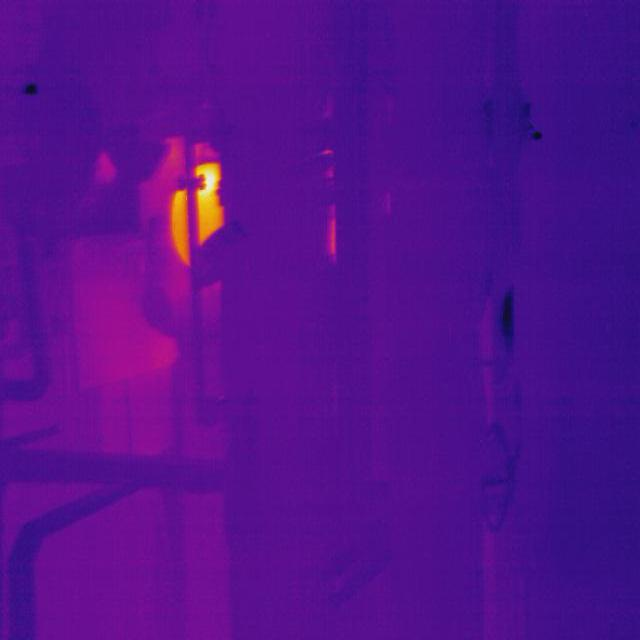leakage: (492, 275, 519, 350), (20, 78, 44, 99)
